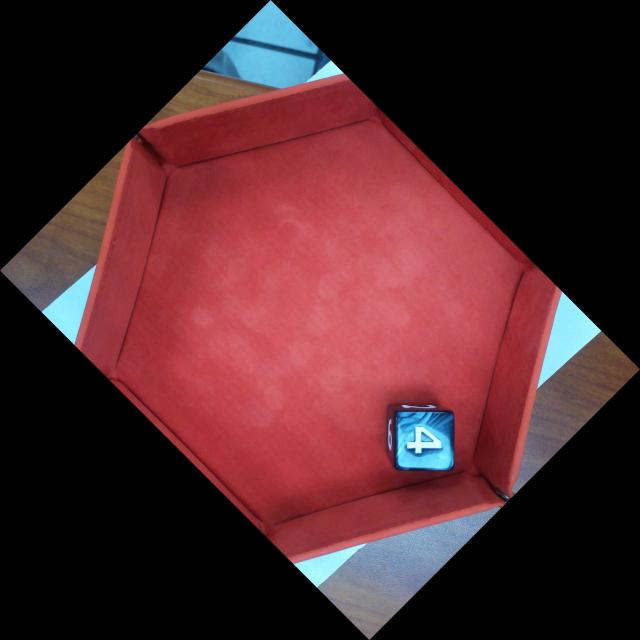dice: (397, 409, 455, 465)
